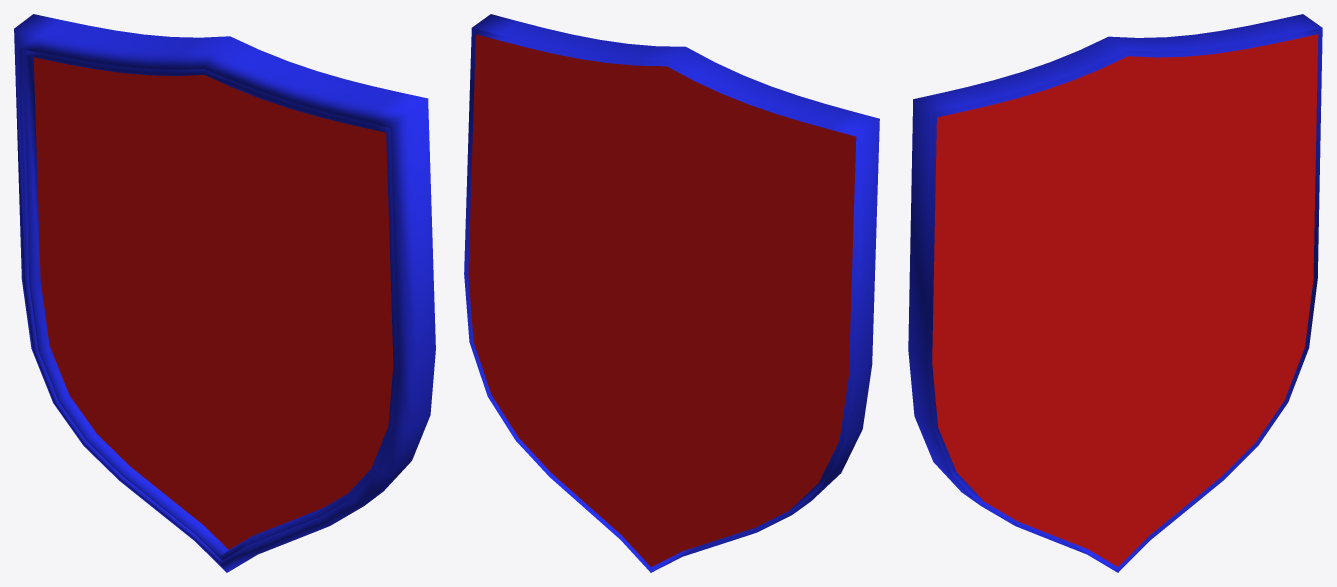
Rendered from shield.FBX.
3 renders of one model, left to right at view 1: azimuth 30°, elevation 25°; view 2: azimuth 210°, elevation 25°; view 3: azimuth 270°, elevation 25°, orthographic.
Visible parts, largest first — view 1: escudo; view 2: escudo; view 3: escudo.
Boxes of the visible parts, x1,y1,x2,y2 form: escudo: [14, 14, 435, 572]; escudo: [464, 14, 879, 572]; escudo: [908, 14, 1322, 572].
Size of the model in its own units: 4.44 by 9.33 by 6.77.
